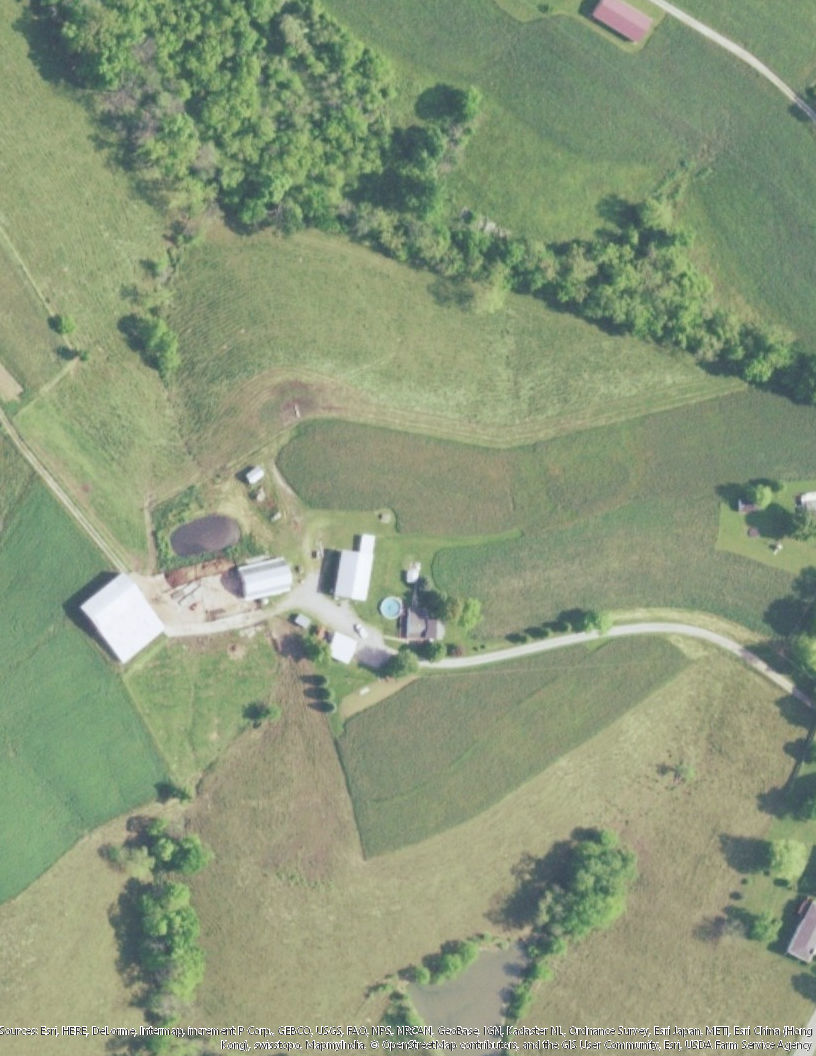cafo: (74, 568, 174, 662), (327, 527, 382, 606), (228, 547, 299, 600)
